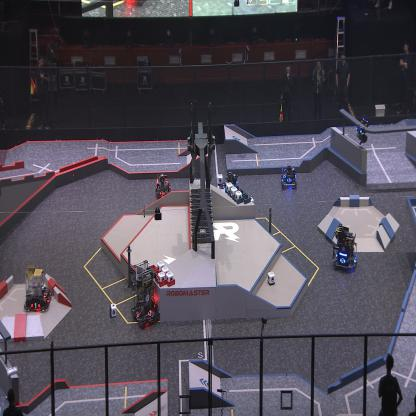car: (130, 258, 162, 327), (23, 264, 52, 314), (332, 224, 358, 272), (220, 170, 239, 197), (280, 164, 296, 191), (155, 173, 171, 199)
